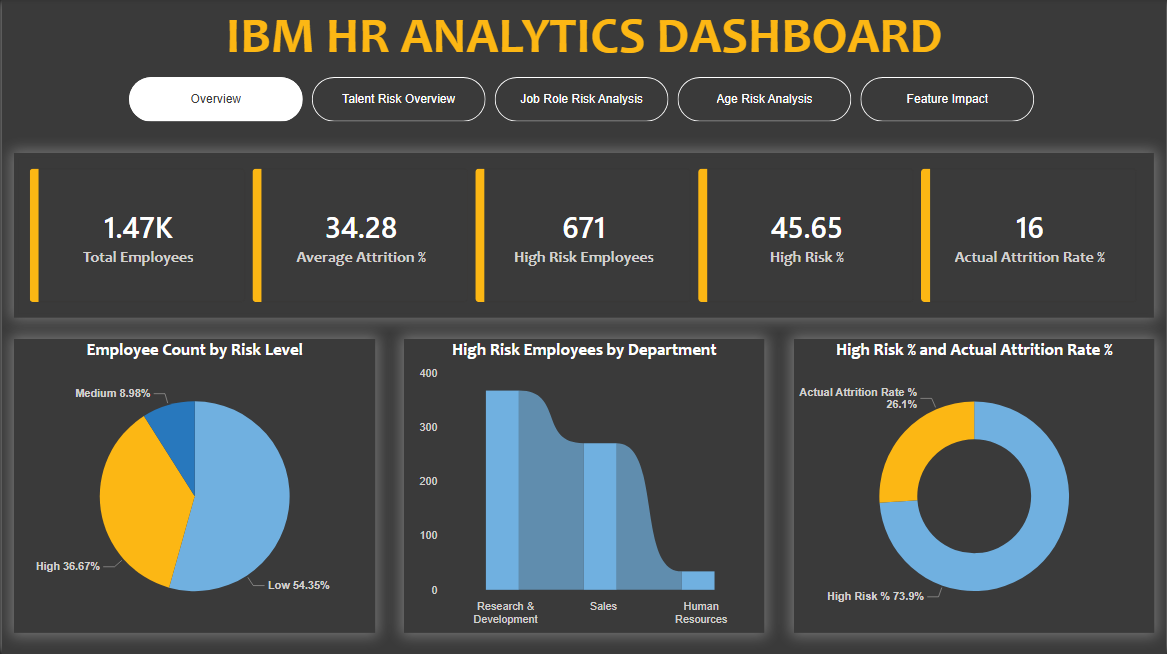

The page's visual inventory and layout, read from the dashboard file:
{"tool":"powerbi","page":{"name":"Overview","canvas":[1280,720],"ordinal":0},"visuals":[{"type":"cardVisual","fields":{"Data":["Measure_Table.Total Employees","Measure_Table.Average Attrition %","Measure_Table.High Risk Employees","Measure_Table.High Risk %","Measure_Table.Actual Attrition Rate %"]},"box":[13.2,169.3,1253.1,181.4],"z":0},{"type":"ribbonChart","fields":{"Category":["ibm_hr_dataset.Department"],"Y":["Measure_Table.High Risk Employees"]},"box":[441.8,373.9,396.2,322.7],"z":1000},{"type":"pieChart","title":"Employee Count by Risk Level","fields":{"Category":["ibm_hr_dataset.Risk_Level"],"Y":["Measure_Table.Total Employees"]},"box":[13.4,373.9,397.3,322.7],"z":2000},{"type":"donutChart","fields":{"Y":["Measure_Table.High Risk %","Measure_Table.Actual Attrition Rate %"]},"box":[870.2,373.9,396.2,322.7],"z":3000},{"type":"pageNavigator","box":[139.6,85.7,999.2,49.5],"z":4000},{"type":"textbox","box":[0,0,1280,85.5],"z":5000}]}

Visuals, with their boxes in screenshot pixels (x1, y1, x2, y2), scaled from the page's 1280x720 canvas onto the 1167x654 screenshot:
cardVisual - Measure_Table.Total Employees x Measure_Table.Average Attrition %: detection(12, 154, 1155, 319)
ribbonChart - ibm_hr_dataset.Department x Measure_Table.High Risk Employees: detection(403, 340, 764, 633)
"Employee Count by Risk Level" pieChart: detection(12, 340, 374, 633)
donutChart - Measure_Table.High Risk % x Measure_Table.Actual Attrition Rate %: detection(793, 340, 1155, 633)
pageNavigator: detection(127, 78, 1038, 123)
textbox: detection(0, 0, 1166, 78)
